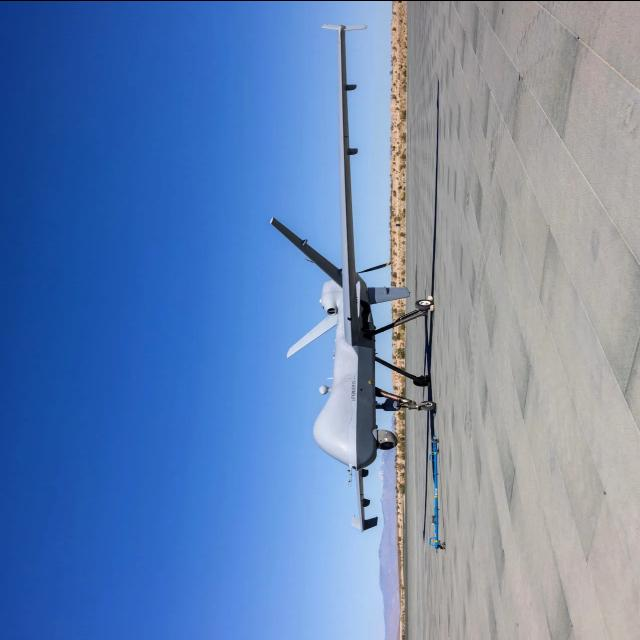MQ9: (232, 3, 508, 589)
